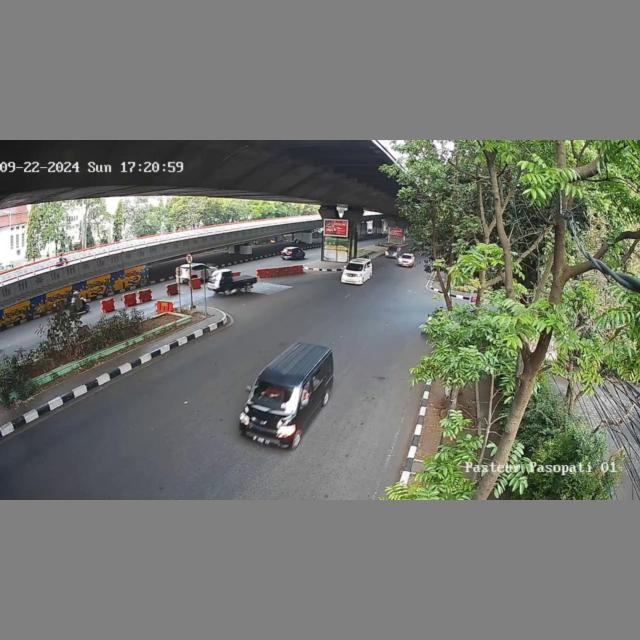windshield: (249, 378, 304, 416), (346, 263, 363, 271)
